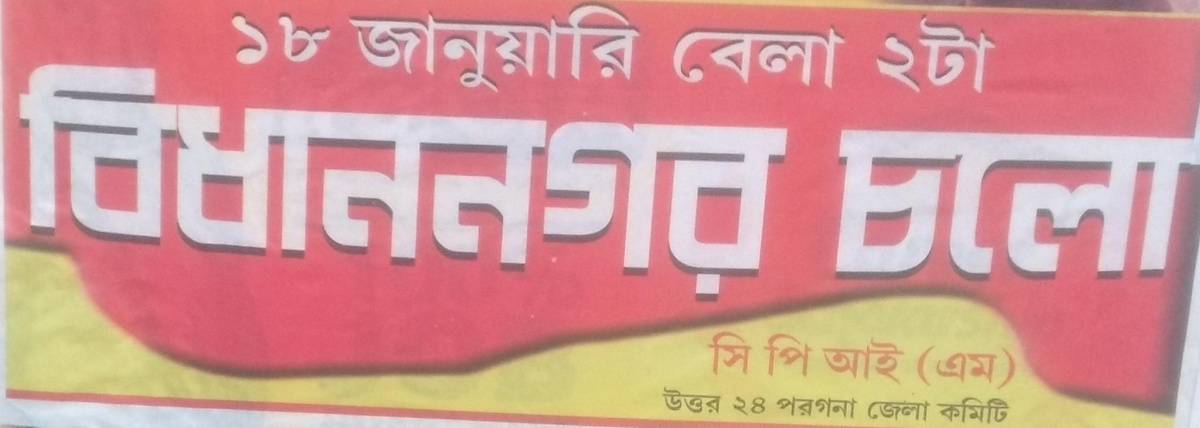text: (17, 60, 32, 308), (33, 60, 48, 308), (49, 60, 64, 308), (65, 60, 80, 308), (81, 60, 96, 308), (97, 60, 112, 308), (113, 60, 128, 308), (129, 60, 144, 308), (145, 60, 160, 308), (161, 60, 176, 308), (177, 60, 192, 308), (193, 60, 208, 308), (209, 60, 224, 308), (225, 60, 240, 308), (241, 60, 256, 308), (257, 60, 272, 308), (273, 60, 288, 308), (289, 60, 304, 308), (305, 60, 320, 308), (321, 60, 336, 308), (337, 60, 352, 308), (353, 60, 368, 308), (369, 60, 384, 308), (385, 60, 400, 308), (401, 60, 416, 308), (417, 60, 432, 308), (433, 60, 448, 308), (449, 60, 464, 308), (465, 60, 480, 308), (481, 60, 496, 308), (497, 60, 512, 308), (513, 60, 528, 308), (529, 60, 544, 308), (545, 60, 560, 308), (561, 60, 576, 308), (577, 60, 592, 308), (593, 60, 608, 308), (609, 60, 624, 308), (625, 60, 640, 308), (641, 60, 656, 308), (657, 60, 672, 308), (673, 60, 688, 308), (689, 60, 704, 308), (705, 60, 720, 308), (721, 60, 736, 308), (737, 60, 752, 308), (753, 60, 768, 308), (769, 60, 784, 308), (849, 128, 864, 282), (865, 128, 880, 282), (881, 128, 896, 282), (897, 128, 912, 282), (913, 128, 928, 282), (929, 128, 944, 282), (945, 128, 960, 282), (961, 128, 976, 282), (977, 128, 992, 282), (993, 128, 1008, 282), (1009, 128, 1024, 282), (1025, 128, 1040, 282), (1041, 128, 1056, 282), (1057, 128, 1072, 282), (1073, 128, 1088, 282), (1089, 128, 1104, 282), (1105, 128, 1120, 282), (1121, 128, 1136, 282), (1137, 128, 1152, 282), (1153, 128, 1168, 282), (1169, 128, 1184, 282), (7, 60, 16, 308), (785, 60, 794, 308), (837, 128, 848, 282), (1185, 128, 1196, 282), (353, 1, 368, 95), (369, 1, 384, 95), (385, 1, 400, 95), (401, 1, 416, 95), (417, 1, 432, 95), (433, 1, 448, 95), (449, 1, 464, 95), (465, 1, 480, 95), (481, 1, 496, 95), (497, 1, 512, 95), (513, 1, 528, 95), (529, 1, 544, 95), (545, 1, 560, 95), (561, 1, 576, 95), (577, 1, 592, 95), (593, 1, 608, 95), (609, 1, 624, 95), (625, 1, 640, 95), (881, 11, 896, 97), (897, 11, 912, 97), (913, 11, 928, 97), (929, 11, 944, 97), (945, 11, 960, 97), (961, 11, 976, 97), (977, 11, 992, 97), (673, 26, 688, 94), (689, 26, 704, 94), (705, 26, 720, 94), (721, 26, 736, 94), (737, 26, 752, 94), (753, 26, 768, 94), (769, 26, 784, 94), (785, 26, 800, 94), (801, 26, 816, 94), (817, 26, 832, 94), (321, 11, 337, 67), (241, 11, 256, 67), (257, 11, 272, 67), (273, 11, 288, 67), (289, 11, 304, 67), (305, 11, 320, 67), (833, 26, 845, 94), (929, 340, 944, 391), (945, 340, 960, 391), (961, 340, 976, 391), (977, 340, 992, 391), (993, 340, 1008, 391), (721, 332, 736, 377), (737, 332, 752, 377), (769, 334, 784, 378), (785, 334, 800, 378), (833, 341, 848, 382), (849, 341, 864, 382), (865, 341, 880, 382), (881, 341, 896, 382), (801, 334, 814, 378), (1009, 340, 1019, 391), (709, 332, 720, 377), (347, 1, 352, 95), (897, 341, 907, 382), (945, 395, 960, 422), (961, 395, 976, 422), (977, 395, 992, 422), (993, 395, 1008, 422), (233, 11, 240, 67), (641, 1, 645, 95), (673, 389, 688, 414), (689, 389, 704, 414), (823, 341, 832, 382), (785, 395, 800, 419), (801, 395, 816, 419), (817, 395, 832, 419), (833, 395, 848, 419), (921, 340, 928, 391), (705, 389, 719, 414), (913, 402, 929, 422), (881, 402, 896, 422), (897, 402, 912, 422), (737, 396, 752, 415), (753, 396, 767, 415), (662, 389, 672, 414), (849, 395, 857, 419), (878, 11, 880, 97), (993, 11, 995, 97), (872, 402, 880, 422), (778, 395, 784, 419), (766, 334, 768, 378), (1009, 395, 1011, 422), (734, 396, 736, 415), (943, 395, 944, 422)
